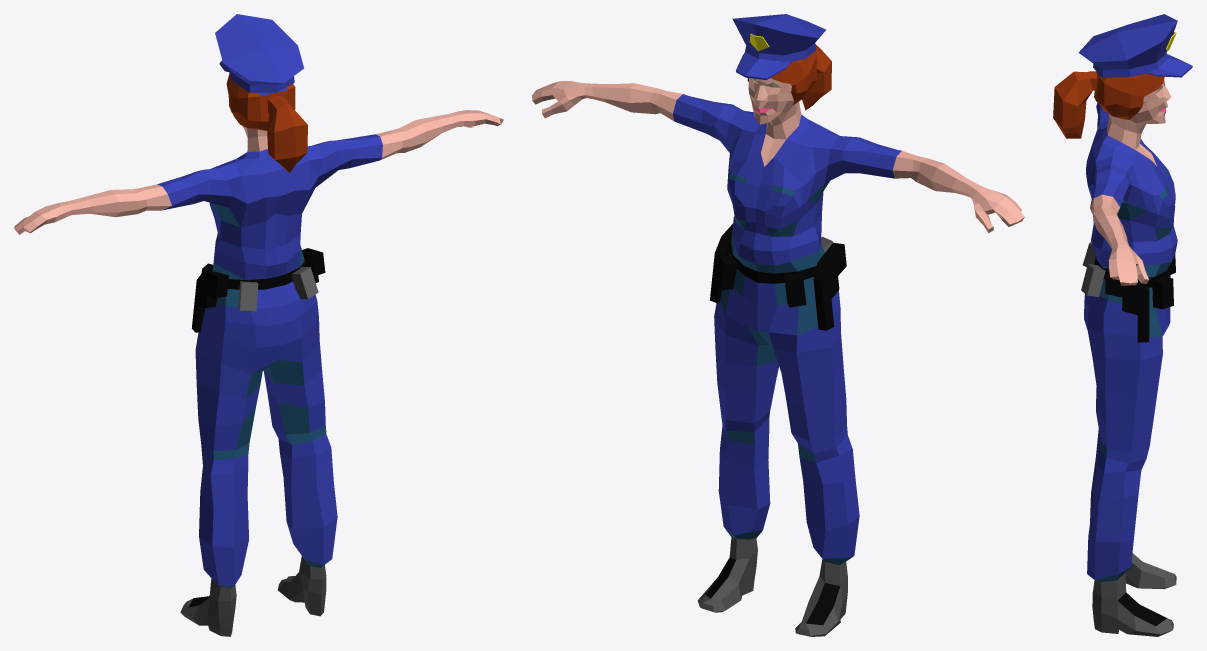
File: PoliceOfficer.fbx
The picture shows the model from 3 angles, left to right: view 1: azimuth 30°, elevation 25°; view 2: azimuth 150°, elevation 25°; view 3: azimuth 270°, elevation 25°; orthographic projection. The views are drawn at different scales.
Visible parts, largest first — view 1: police_Female_A; view 2: police_Female_A; view 3: police_Female_A.
Boxes of the visible parts, x1,y1,x2,y2 form: police_Female_A: [14, 14, 503, 636]; police_Female_A: [532, 14, 1024, 636]; police_Female_A: [1053, 14, 1192, 636].
Size of the model in its own units: 155 by 38.76 by 180.
